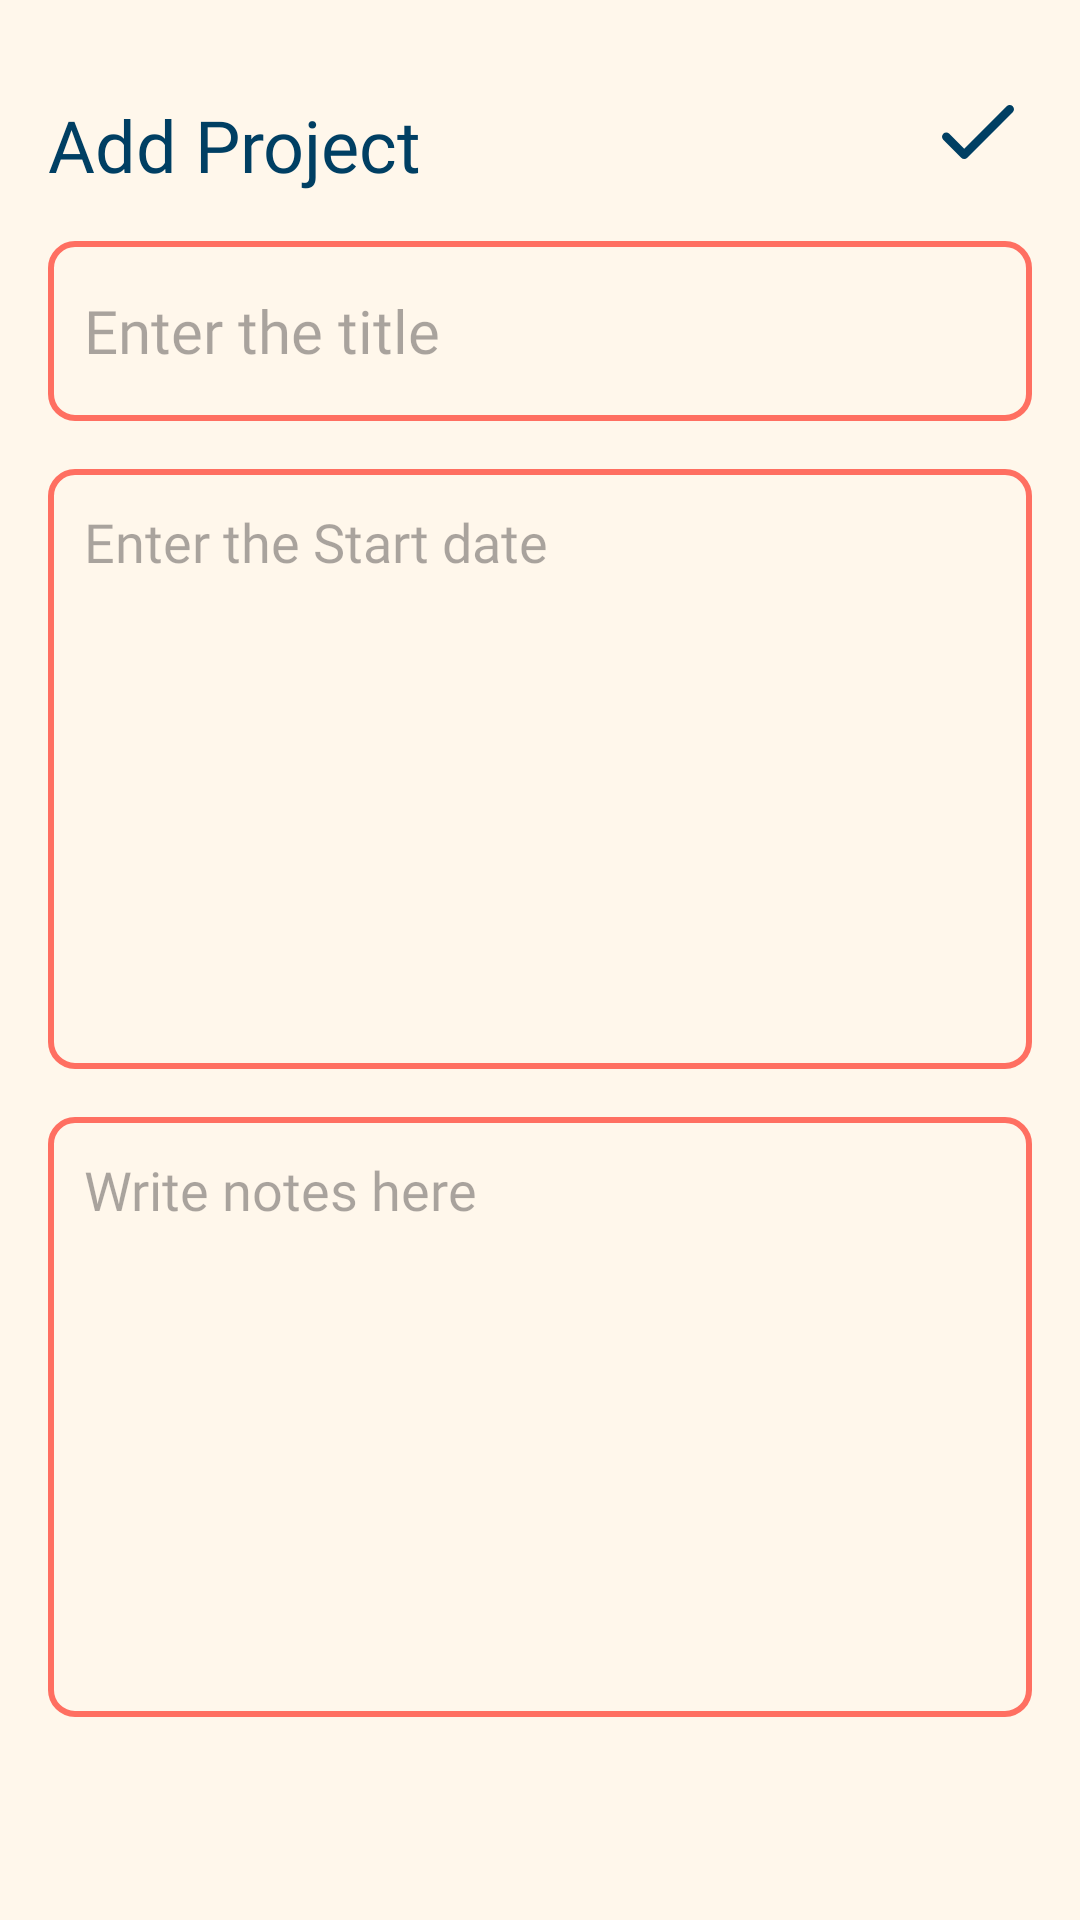

Icon bounding boxes for this 1080×1920 phone screenshot, format (x1, y1, x2, y2):
check: (942, 105, 1014, 159)
